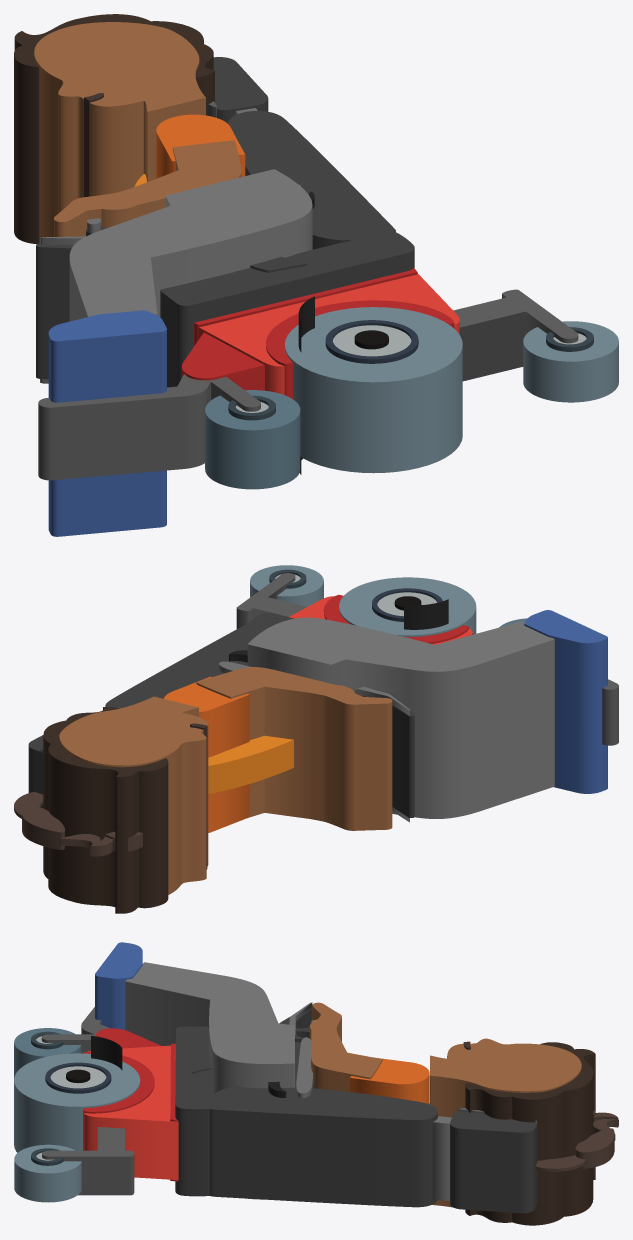
Rendered from emoji_u1f9d1_1f3fe_200d_1f9bc.glb.
3 renders of one model, top to bottom at view 1: azimuth 30°, elevation 25°; view 2: azimuth 150°, elevation 25°; view 3: azimuth 270°, elevation 25°, orthographic. The views are drawn at different scales.
Parts seen in each view (by area): view 1: emoji_u1f9d1_1f3fe_200d_1f9bc; view 2: emoji_u1f9d1_1f3fe_200d_1f9bc; view 3: emoji_u1f9d1_1f3fe_200d_1f9bc.
Boxes of the visible parts, x1=… form: emoji_u1f9d1_1f3fe_200d_1f9bc: x1=14, y1=14, x2=618, y2=536; emoji_u1f9d1_1f3fe_200d_1f9bc: x1=14, y1=565, x2=618, y2=913; emoji_u1f9d1_1f3fe_200d_1f9bc: x1=14, y1=942, x2=618, y2=1225.
Size of the model in its own units: 0.024 by 0.0086 by 0.034.
